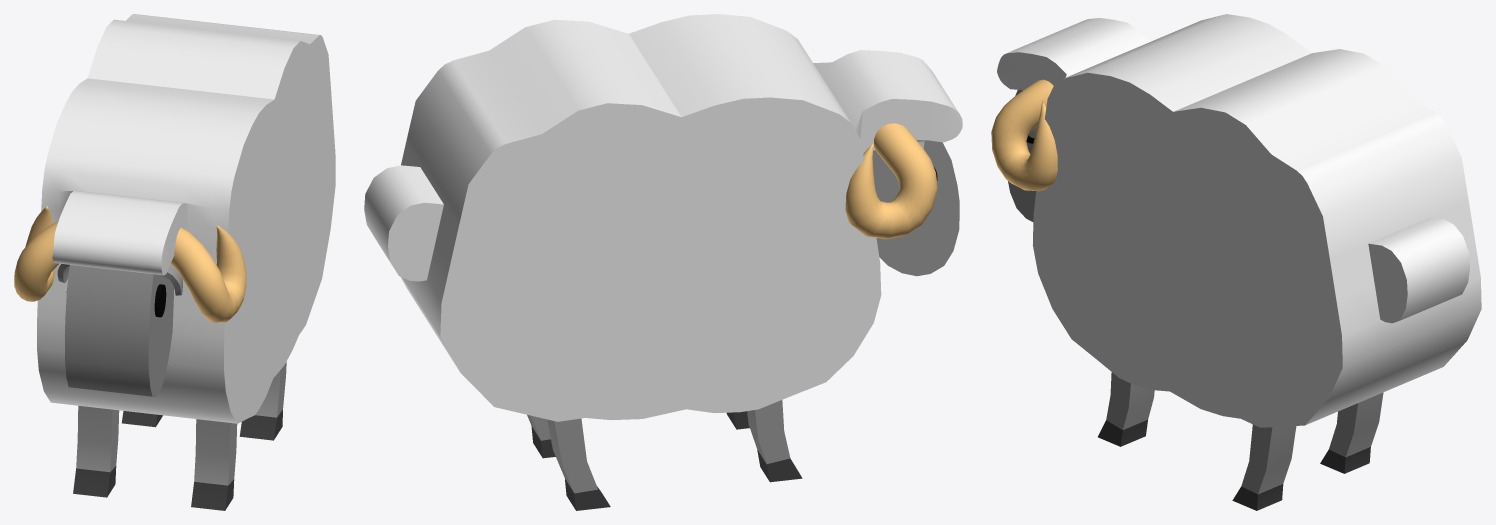
File: ram.glb
3 views of the same model, side by side, from view 1: azimuth 30°, elevation 25°; view 2: azimuth 150°, elevation 25°; view 3: azimuth 270°, elevation 25° (orthographic). The views are drawn at different scales.
Visible parts, largest first — view 1: Plane.124, Circle.1900, Cube.6237; view 2: Plane.124, Circle.1900; view 3: Plane.124, Circle.1900.
Boxes of the visible parts, left/top/right/bottom form: Plane.124: left=37, top=14, right=335, bottom=510; Circle.1900: left=14, top=206, right=246, bottom=322; Cube.6237: left=57, top=264, right=182, bottom=295; Plane.124: left=364, top=14, right=962, bottom=510; Circle.1900: left=845, top=123, right=937, bottom=239; Plane.124: left=997, top=14, right=1481, bottom=510; Circle.1900: left=991, top=79, right=1057, bottom=191.
Size of the model in its own units: 2.22 by 1.98 by 2.22.
Materials: 1 (1 with a texture image).
